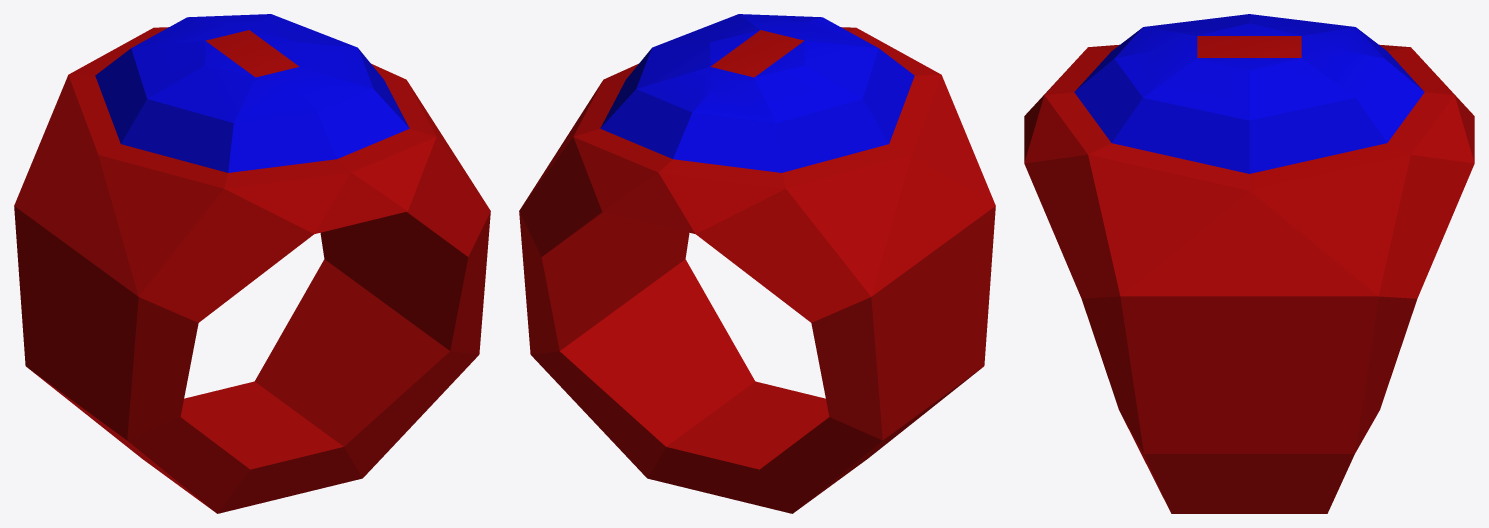
The model's file is Ring_09.fbx.
3 renders of one model, left to right at view 1: azimuth 30°, elevation 25°; view 2: azimuth 150°, elevation 25°; view 3: azimuth 270°, elevation 25°, orthographic. The views are drawn at different scales.
Visible parts, largest first — view 1: SM_Item_Ring_09; view 2: SM_Item_Ring_09; view 3: SM_Item_Ring_09.
Boxes of the visible parts, <box> form: SM_Item_Ring_09: <box>14,14,490,513</box>; SM_Item_Ring_09: <box>519,14,995,513</box>; SM_Item_Ring_09: <box>1024,14,1474,513</box>.
Size of the model in its own units: 5.07 by 5.71 by 5.42.
